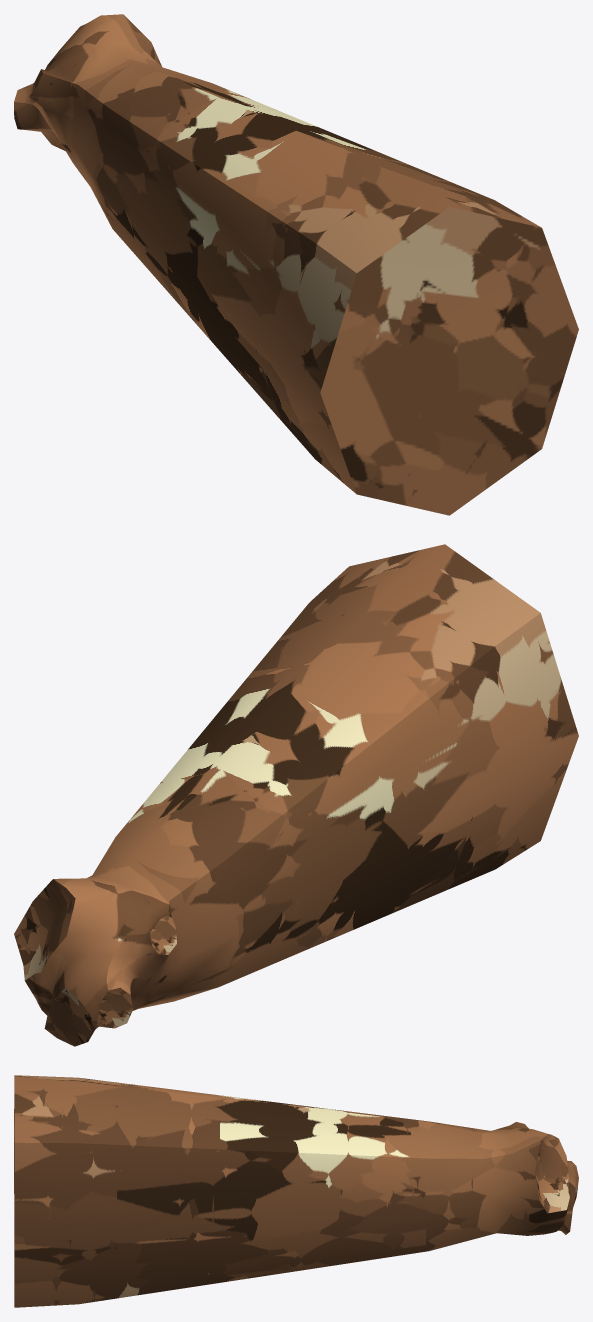
File: PRP_trunk_lowPoly_v03.fbx
3 views of the same model, one above another, from view 1: azimuth 30°, elevation 25°; view 2: azimuth 150°, elevation 25°; view 3: azimuth 270°, elevation 25° (orthographic). The views are drawn at different scales.
Parts seen in each view (by area): view 1: PRP_tree_lowPoly_geo.003; view 2: PRP_tree_lowPoly_geo.003; view 3: PRP_tree_lowPoly_geo.003.
Boxes of the visible parts, <box> form: PRP_tree_lowPoly_geo.003: <box>14,14,578,515</box>; PRP_tree_lowPoly_geo.003: <box>14,544,578,1046</box>; PRP_tree_lowPoly_geo.003: <box>14,1075,578,1307</box>.
Size of the model in its own units: 0.6199 by 0.706 by 1.57.
